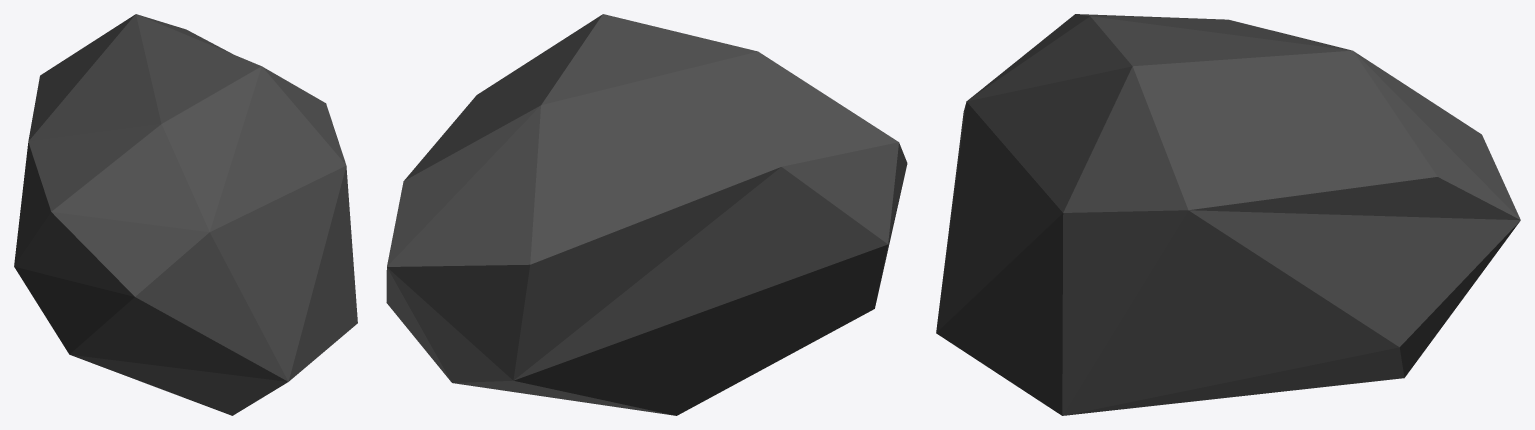
The model's file is Rock_02.fbx.
3 renders of one model, left to right at view 1: azimuth 30°, elevation 25°; view 2: azimuth 150°, elevation 25°; view 3: azimuth 270°, elevation 25°, orthographic. The views are drawn at different scales.
Visible parts, largest first — view 1: Rock_02; view 2: Rock_02; view 3: Rock_02.
Boxes of the visible parts, x1=… form: Rock_02: x1=14, y1=14, x2=357, y2=415; Rock_02: x1=386, y1=14, x2=907, y2=415; Rock_02: x1=936, y1=14, x2=1520, y2=415.
Size of the model in its own units: 5.54 by 4.89 by 6.84.
